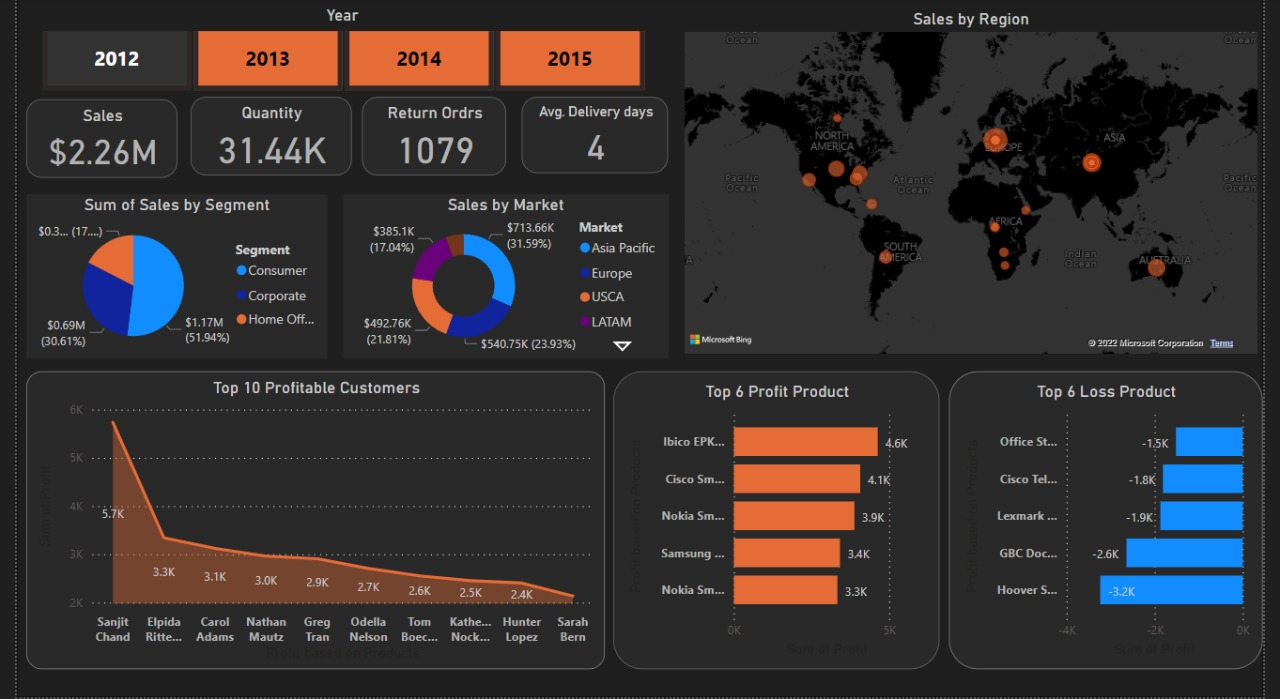

This screenshot's page, from the dashboard's own definition file:
{"tool":"powerbi","page":{"name":"Page 1","canvas":[1280,720],"ordinal":0},"visuals":[{"type":"card","title":"Sales","fields":{"Values":["Orders.Sales"]},"box":[9.6,104.9,155.6,80.8],"z":0},{"type":"card","title":"Quantity","fields":{"Values":["Orders.Quantity"]},"box":[178.5,102.5,165.2,80.8],"z":1000},{"type":"card","title":"Avg. Delivery days","fields":{"Values":["Orders.Delivery days"]},"box":[518.6,102.5,150.8,78.4],"z":2000},{"type":"slicer","title":"Year","fields":{"Values":["Orders.Year"]},"box":[0,8.3,668.8,94.1],"z":3000},{"type":"card","title":"Return Orders","fields":{"Values":["Returns.Return Orders"]},"box":[354.6,102.5,148.3,80.8],"z":4000},{"type":"map","title":"Sales by Region","fields":{"Category":["Orders.Region"],"Size":["Orders.Sales"]},"box":[681.4,12.1,598.2,359.4],"z":5000},{"type":"barChart","title":"Top 6 Profit Product","fields":{"Category":["Orders.Product Name"],"Y":["Orders.Profit"]},"box":[612.7,384.7,335.3,306.3],"z":6000},{"type":"barChart","title":"Top 6 Loss Product","fields":{"Category":["Orders.Product Name"],"Y":["Orders.Profit"]},"box":[957.6,384.7,322,306.3],"z":7000},{"type":"pieChart","title":"Sales by Segment","fields":{"Category":["Orders.Segment"],"Y":["Orders.Sales"]},"box":[9.6,202.6,309.9,168.8],"z":8000},{"type":"donutChart","title":"Sales by Market","fields":{"Category":["Orders.Market"],"Y":["Orders.Sales"]},"box":[335.3,202.6,334.1,168.8],"z":9000},{"type":"stackedAreaChart","title":"Top 10 Profitable Customers","fields":{"Category":["Orders.Customer Name"],"Y":["Orders.Profit"]},"box":[9.6,384.7,594.6,306.3],"z":10000}]}

Visuals, with their boxes on the page's 1280x720 design canvas (x1, y1, x2, y2). These are canvas units, not pixel positions in the 1280x699 screenshot, which may show the page scaled, cropped or inside an application window:
"Sales" card: (x1=10, y1=105, x2=165, y2=186)
"Quantity" card: (x1=178, y1=102, x2=344, y2=183)
"Avg. Delivery days" card: (x1=519, y1=102, x2=669, y2=181)
"Year" slicer: (x1=0, y1=8, x2=669, y2=102)
"Return Orders" card: (x1=355, y1=102, x2=503, y2=183)
"Sales by Region" map: (x1=681, y1=12, x2=1280, y2=372)
"Top 6 Profit Product" barChart: (x1=613, y1=385, x2=948, y2=691)
"Top 6 Loss Product" barChart: (x1=958, y1=385, x2=1280, y2=691)
"Sales by Segment" pieChart: (x1=10, y1=203, x2=320, y2=371)
"Sales by Market" donutChart: (x1=335, y1=203, x2=669, y2=371)
"Top 10 Profitable Customers" stackedAreaChart: (x1=10, y1=385, x2=604, y2=691)
